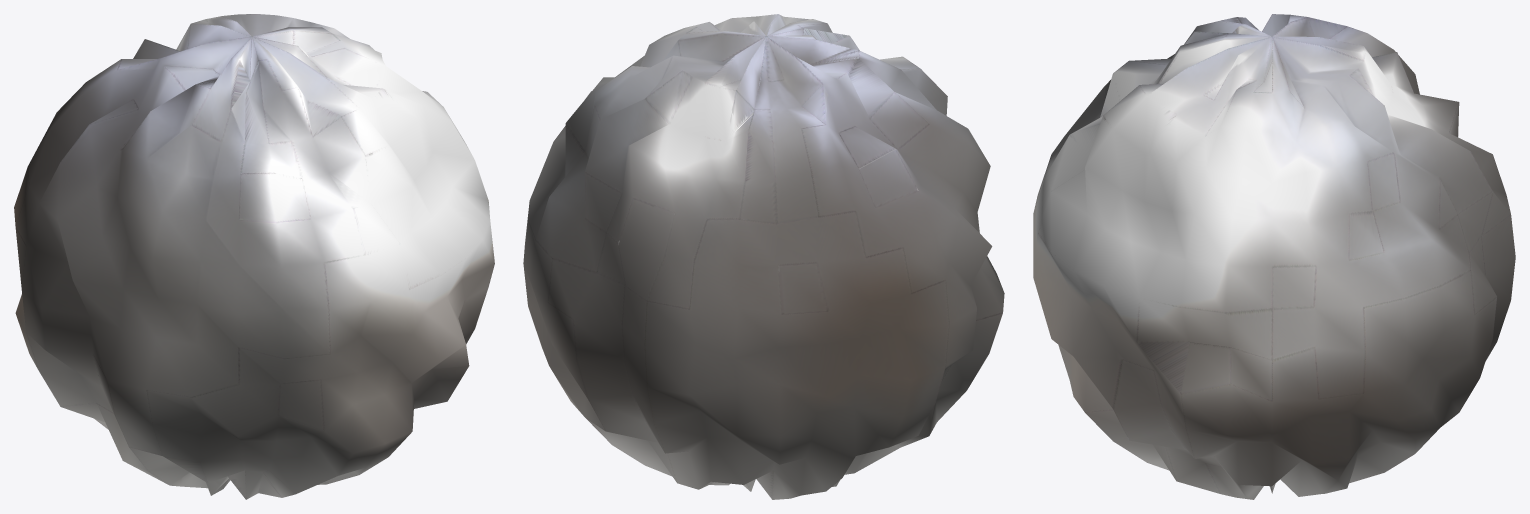
Rendered from metalchunk.glb.
3 views of the same model, side by side, from view 1: azimuth 30°, elevation 25°; view 2: azimuth 150°, elevation 25°; view 3: azimuth 270°, elevation 25° (orthographic).
Visible parts, largest first — view 1: Sphere; view 2: Sphere; view 3: Sphere.
Part boxes in pixels (left/top/right/bottom): Sphere: left=14, top=14, right=494, bottom=499; Sphere: left=523, top=14, right=1004, bottom=499; Sphere: left=1033, top=14, right=1515, bottom=499.
Size of the model in its own units: 2.25 by 2.22 by 2.22.
1 material, 1 textured.
